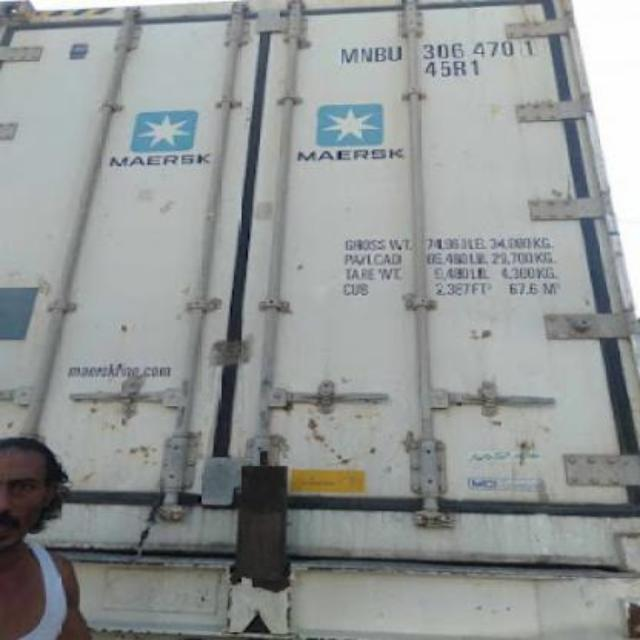0: (502, 36, 516, 59), (436, 40, 449, 61)
1: (520, 36, 538, 59)
3: (422, 40, 436, 61)
4: (474, 39, 486, 59)
6: (450, 40, 466, 60)
7: (486, 36, 499, 59)
B: (376, 44, 388, 66)
M: (338, 46, 359, 66)
N: (361, 48, 374, 62)
U: (388, 45, 404, 65)
